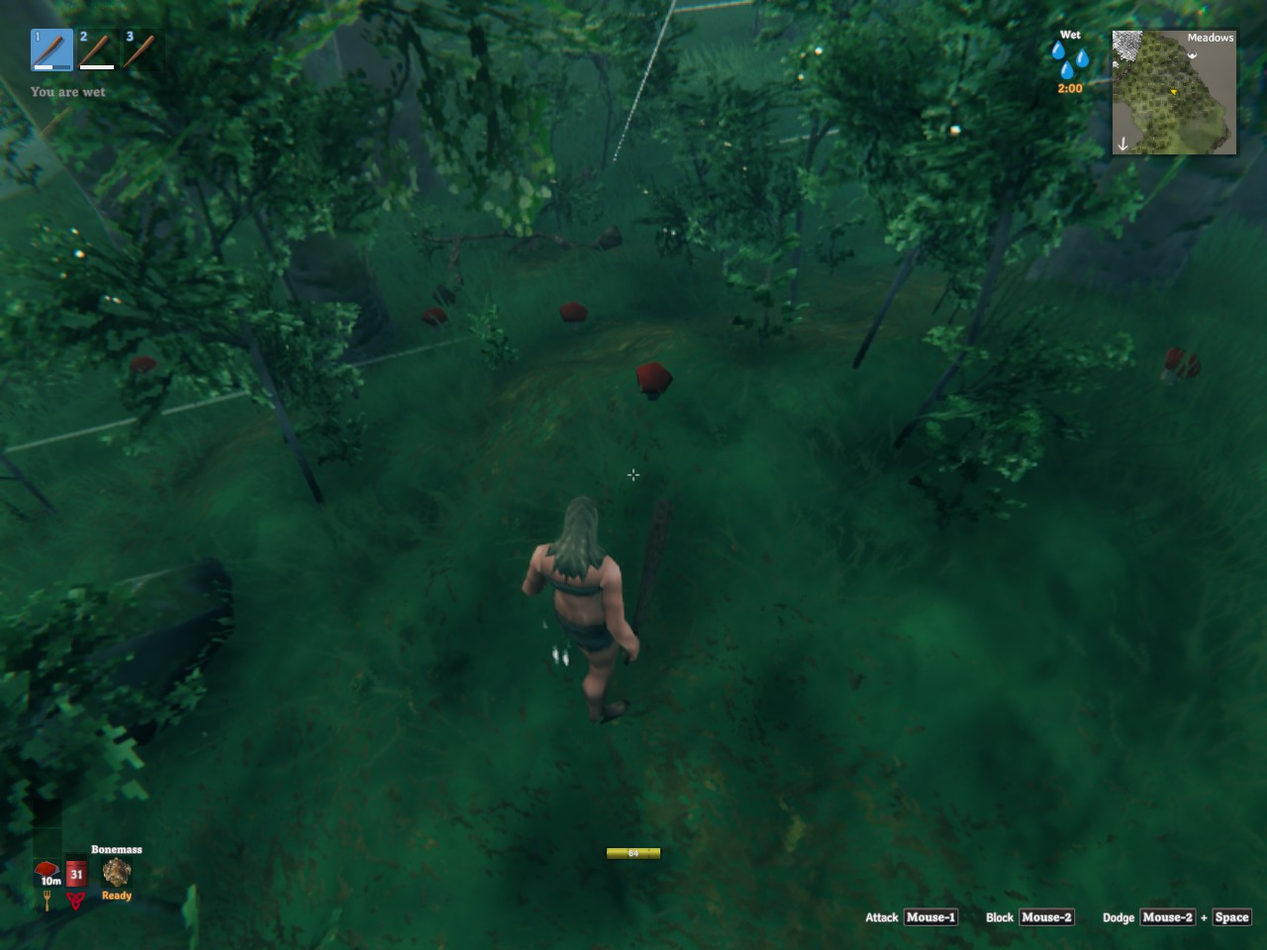Branch: (418, 225, 623, 284)
Food Indicator: (36, 797, 63, 891)
Health Bar: (63, 820, 90, 891)
Hotbar: (24, 21, 195, 80)
Mushroom: (1159, 347, 1201, 385), (636, 362, 671, 399), (560, 302, 586, 324), (130, 354, 156, 373), (422, 307, 447, 326)
Stamina Bar: (604, 844, 668, 866)
Status Indicator: (1024, 22, 1111, 100)
